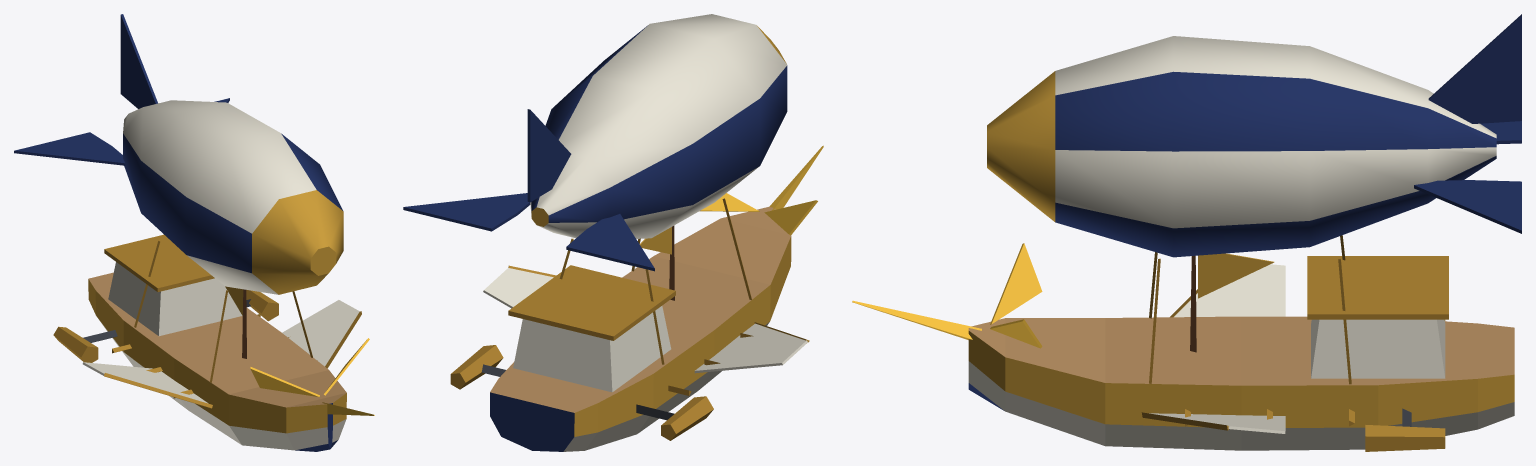
Rendered from SM_Ship_ArmadaCorvette_LQ.glb.
The picture shows the model from 3 angles, left to right: view 1: azimuth 30°, elevation 25°; view 2: azimuth 150°, elevation 25°; view 3: azimuth 270°, elevation 25°; orthographic projection. The views are drawn at different scales.
Parts seen in each view (by area): view 1: SM_Ship_ArmadaCorvette_LQ; view 2: SM_Ship_ArmadaCorvette_LQ; view 3: SM_Ship_ArmadaCorvette_LQ.
Part boxes in pixels (x1,y1,x2,y2): SM_Ship_ArmadaCorvette_LQ: (14, 14, 374, 451); SM_Ship_ArmadaCorvette_LQ: (403, 14, 823, 451); SM_Ship_ArmadaCorvette_LQ: (852, 14, 1521, 451).
Bounding box in the file's own units: 10.89 × 12.8 × 18.41.
1 material, 1 textured.
